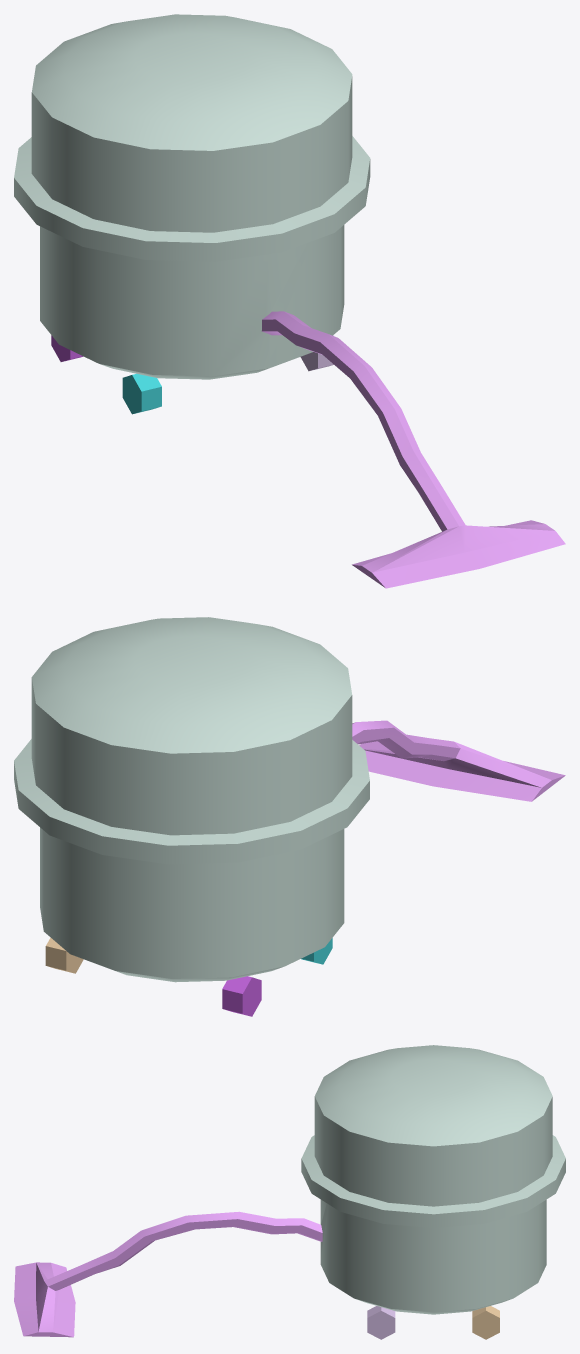
The picture shows the model from 3 angles, top to bottom: view 1: azimuth 30°, elevation 25°; view 2: azimuth 150°, elevation 25°; view 3: azimuth 270°, elevation 25°; orthographic projection. The views are drawn at different scales.
Parts seen in each view (by area): view 1: pCylinder6_lambert2_0.008, split_parent_5, pCylinder6_lambert2_0; view 2: pCylinder6_lambert2_0.008, split_parent_5, pCylinder6_lambert2_0.004, pCylinder6_lambert2_0.006; view 3: pCylinder6_lambert2_0.008, split_parent_5, pCylinder6_lambert2_0.002, pCylinder6_lambert2_0.006.
Boxes of the visible parts, x1,y1,x2,y2 form: pCylinder6_lambert2_0.008: (14, 14, 370, 379); split_parent_5: (262, 311, 565, 588); pCylinder6_lambert2_0: (122, 373, 161, 414); pCylinder6_lambert2_0.008: (14, 617, 369, 982); split_parent_5: (352, 720, 565, 801); pCylinder6_lambert2_0.004: (222, 976, 261, 1016); pCylinder6_lambert2_0.006: (45, 937, 83, 973); pCylinder6_lambert2_0.008: (301, 1045, 565, 1314); split_parent_5: (14, 1211, 322, 1337); pCylinder6_lambert2_0.002: (367, 1306, 395, 1339); pCylinder6_lambert2_0.006: (472, 1306, 499, 1339).
Bounding box in the file's own units: 0.4792 × 0.4515 × 1.
